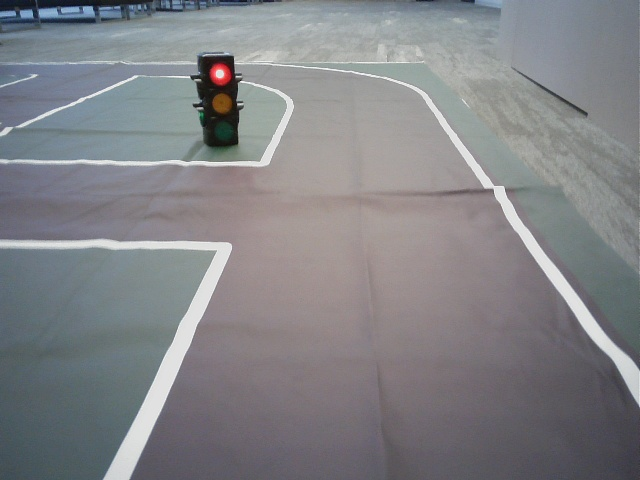red: (206, 57, 234, 139)
